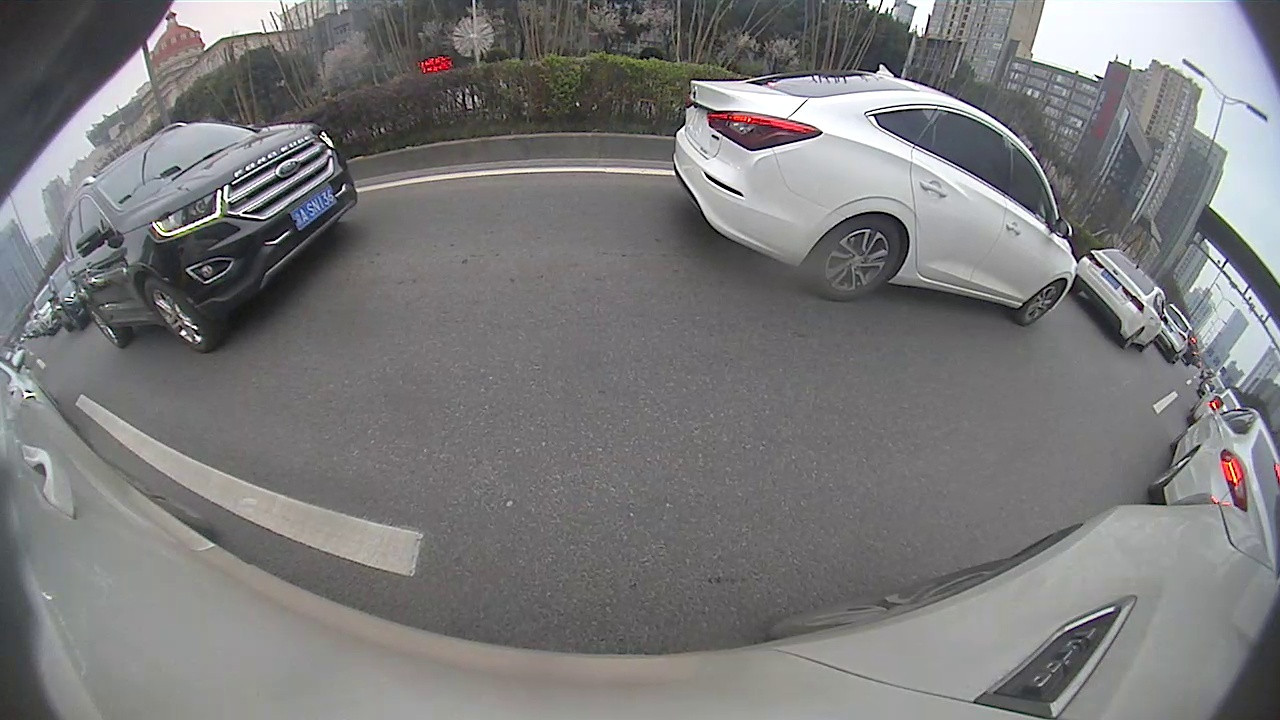car: (668, 60, 1081, 328), (61, 119, 362, 356), (1145, 399, 1279, 543), (1074, 250, 1169, 352)
front: (145, 279, 211, 352), (1017, 278, 1067, 328)
rear: (814, 214, 907, 301), (85, 299, 127, 349)
